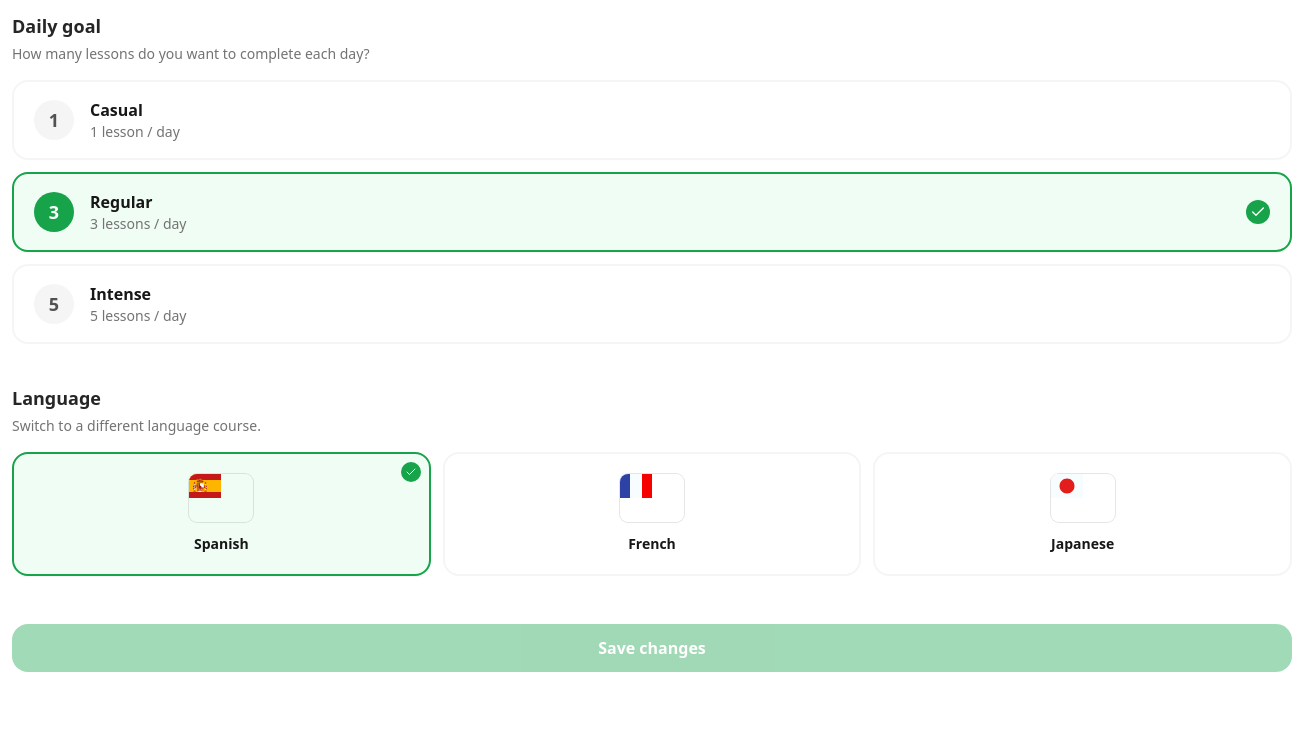
SettingsForm › should enable Save button when daily goal changes
Click the button "1 Casual 1 lesson / day": (54, 120) [12, 80, 1292, 160]
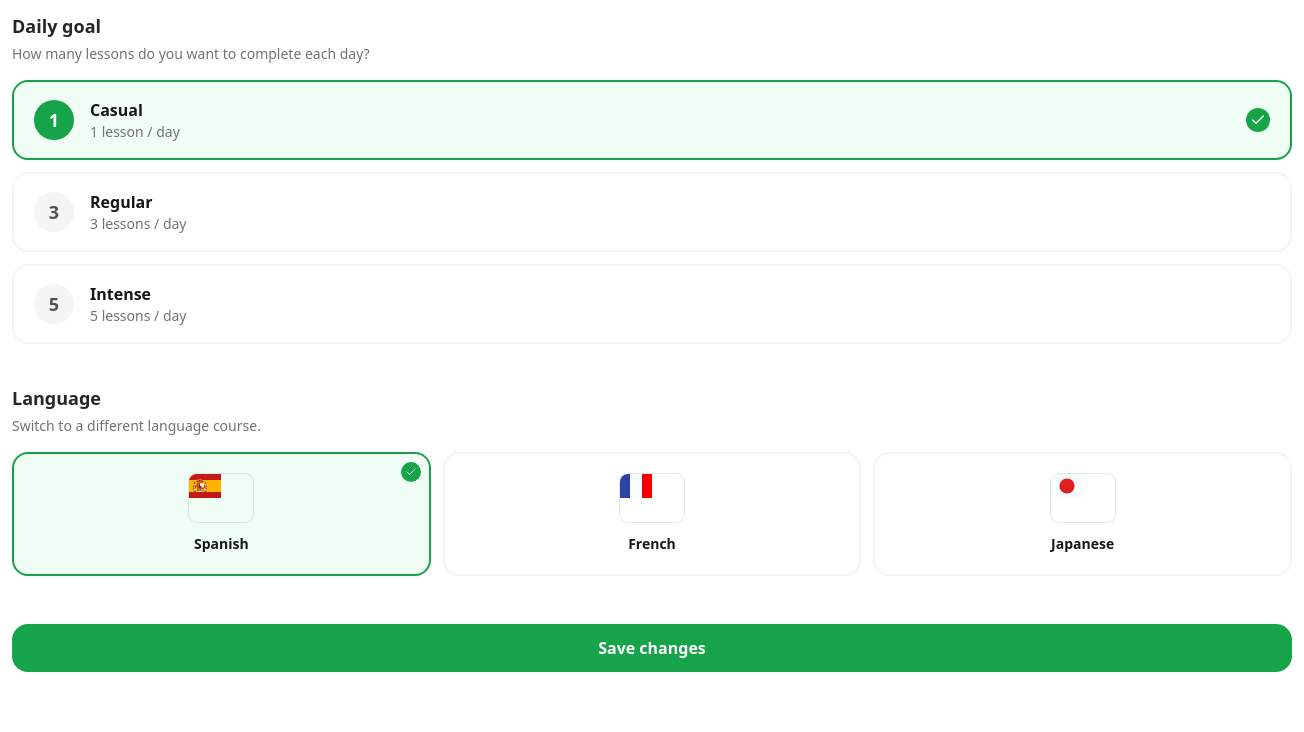
Expected: the button "Save changes" is enabled, [12, 624, 1292, 672]
